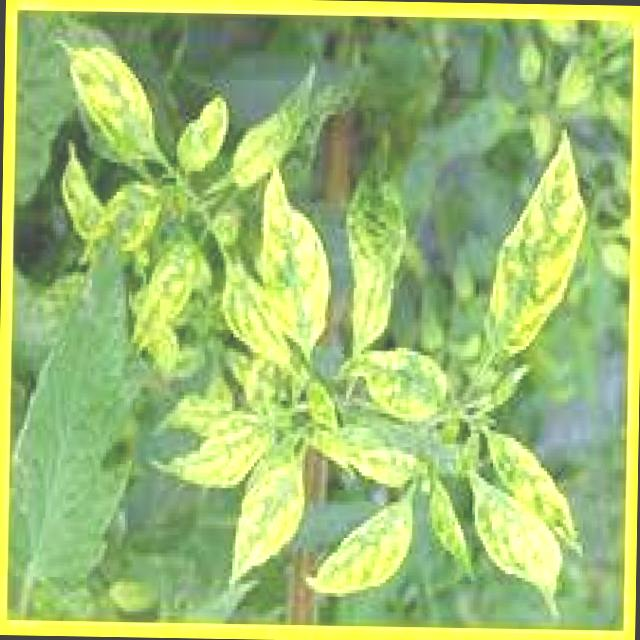yellowish leaf: (44, 32, 611, 611)
